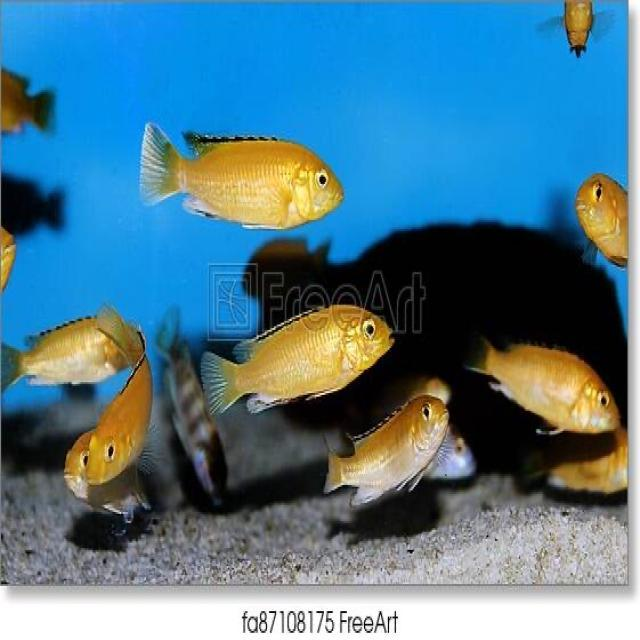YellowCichlid: (134, 122, 340, 230), (195, 302, 399, 399), (469, 336, 626, 444), (332, 398, 450, 524), (86, 378, 172, 488), (0, 320, 151, 377), (546, 440, 640, 520), (576, 146, 628, 282), (0, 58, 75, 146), (550, 0, 605, 79), (0, 218, 38, 294), (64, 422, 96, 511)
